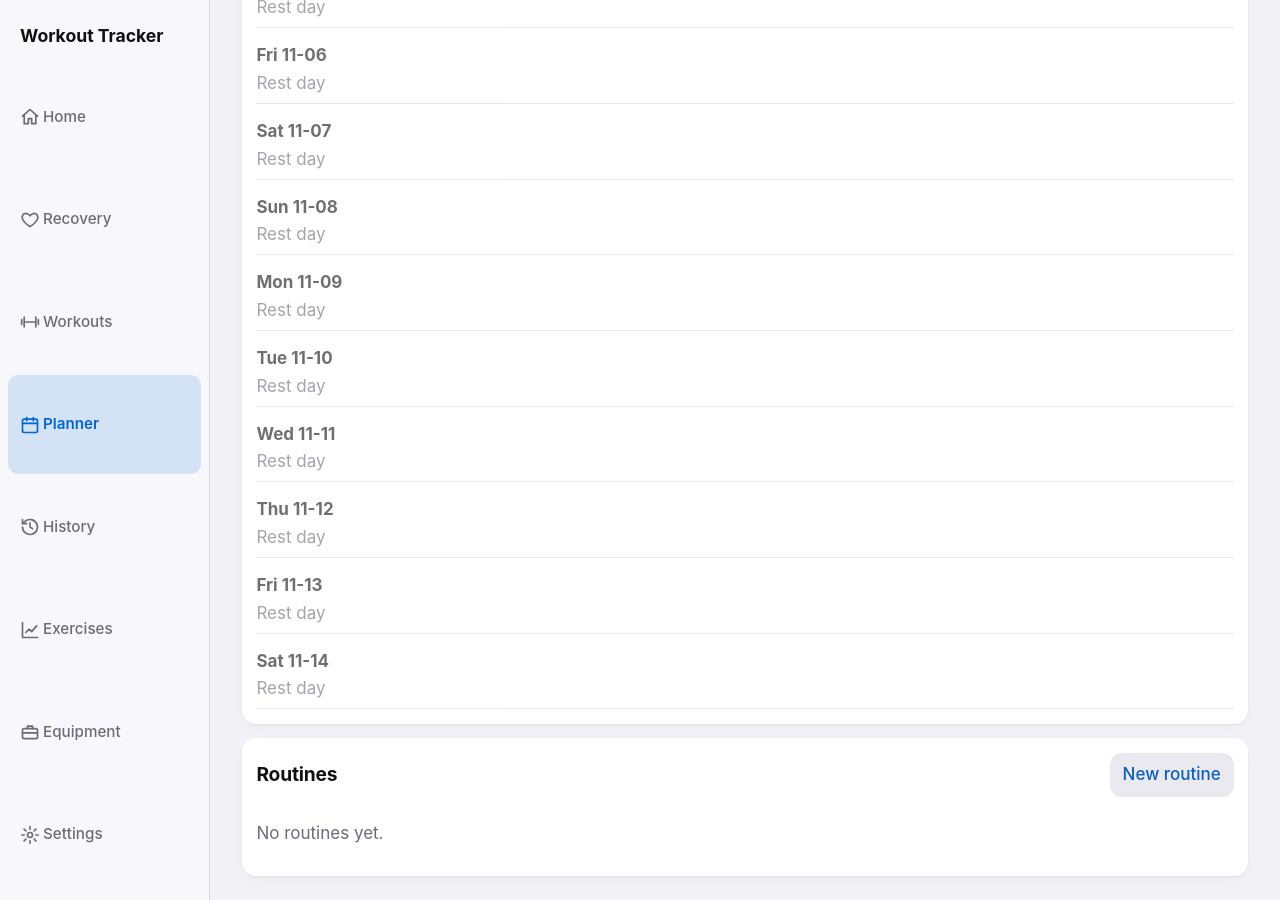
planner views › edits recurrence in the routine editor
(page scrolled)
Expected: the navigation bar named "Main" is shown, [0,0,210,899]
Click the button "New routine" at point(1172, 774), box [1110,752,1234,796]
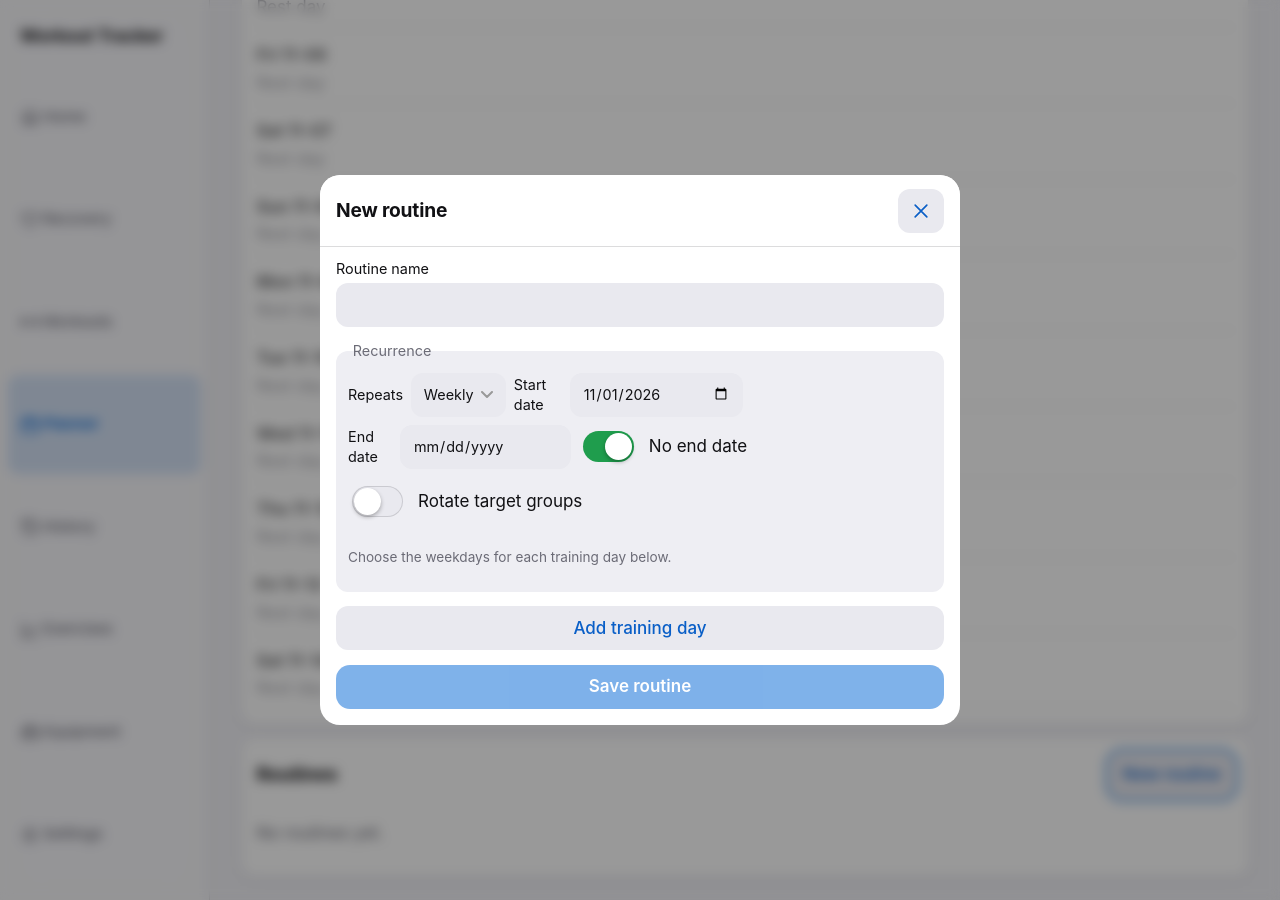
Select "Daily" in the dropdown labelled "Repeats" at point(458, 395), box [411,373,506,417]
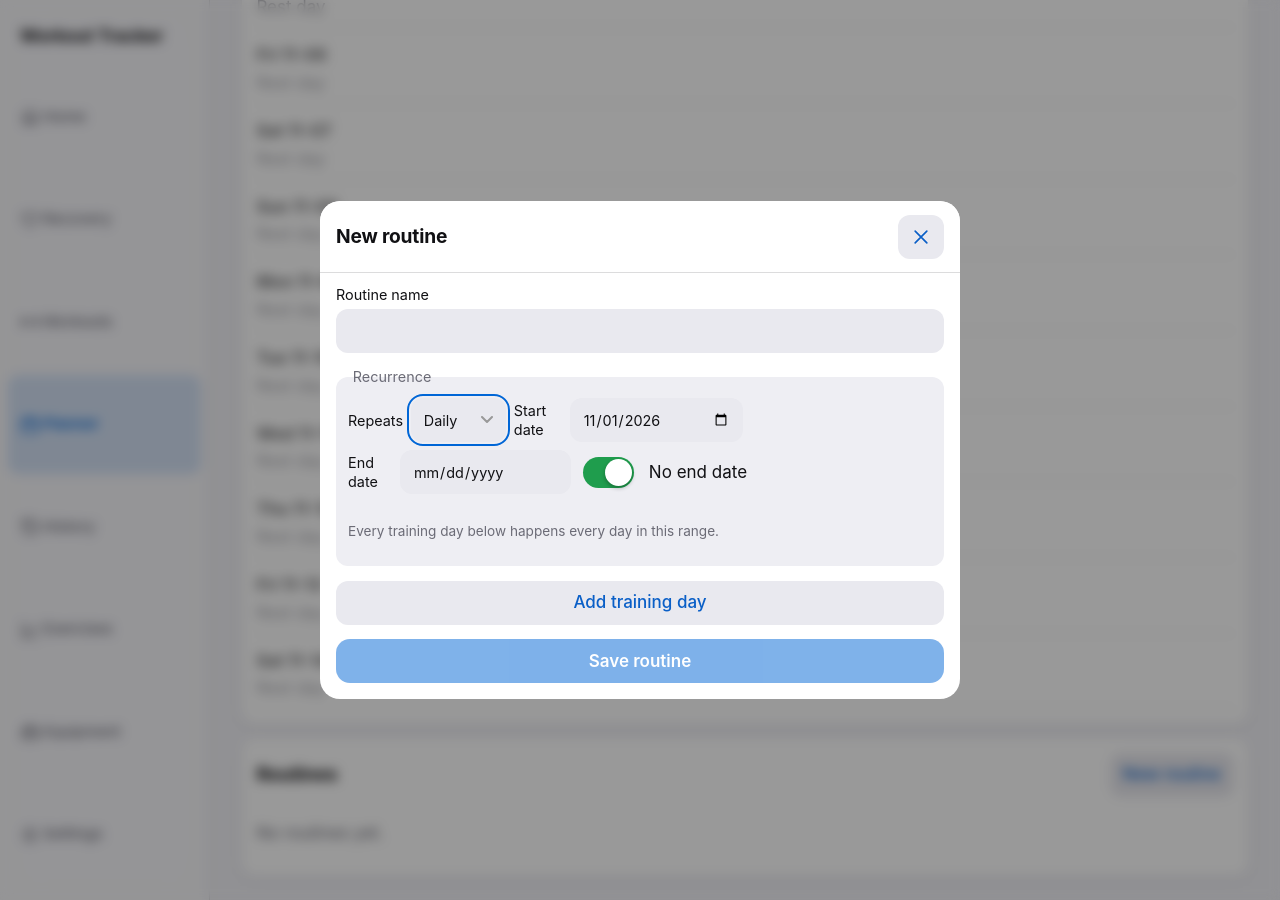
Now the date field labelled "End date" is disabled, box [400,450,571,494]
Click the checkbox labelled "No end date" at point(608, 472), box [583,457,634,488]
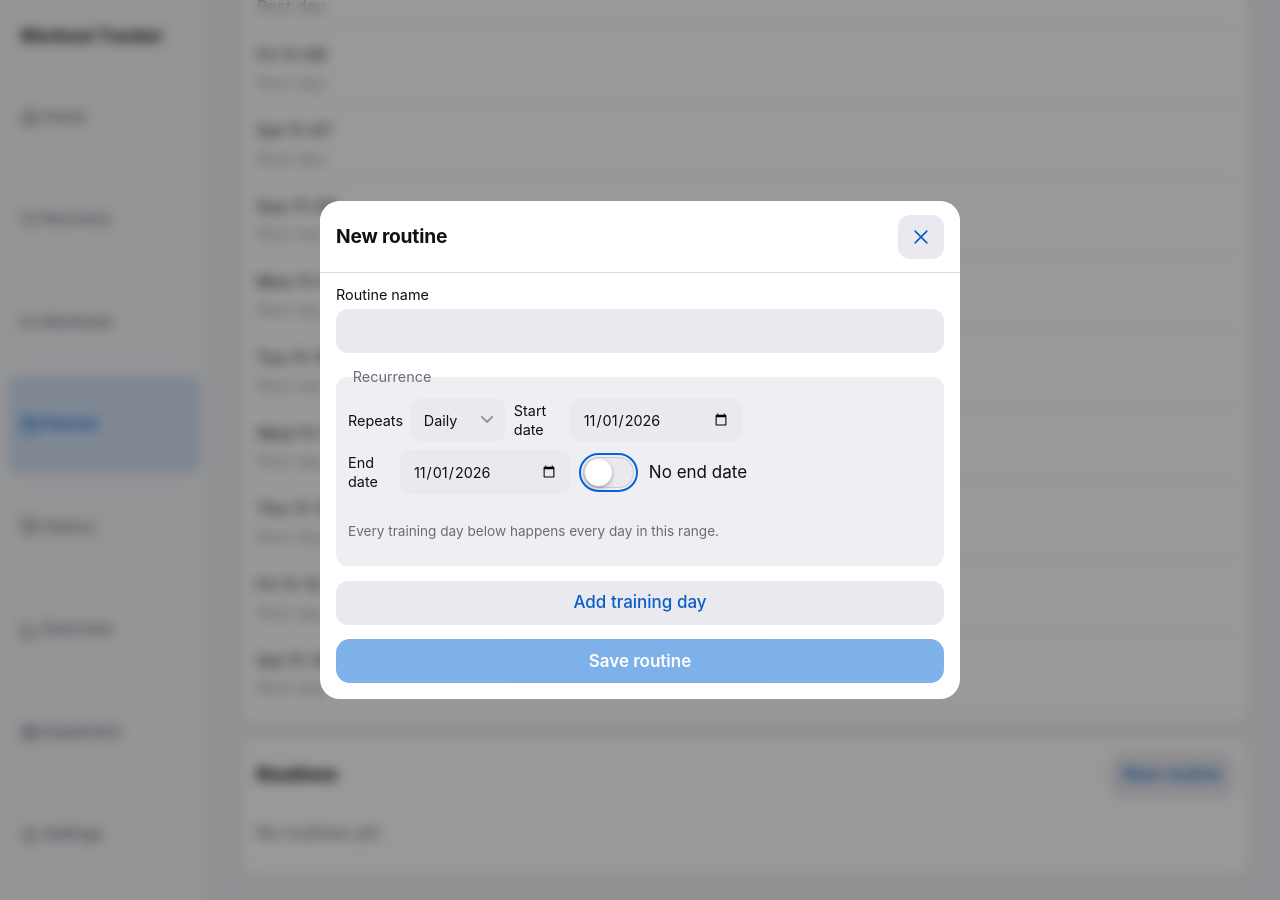
Now the date field labelled "End date" is enabled, box [400,450,571,494]
